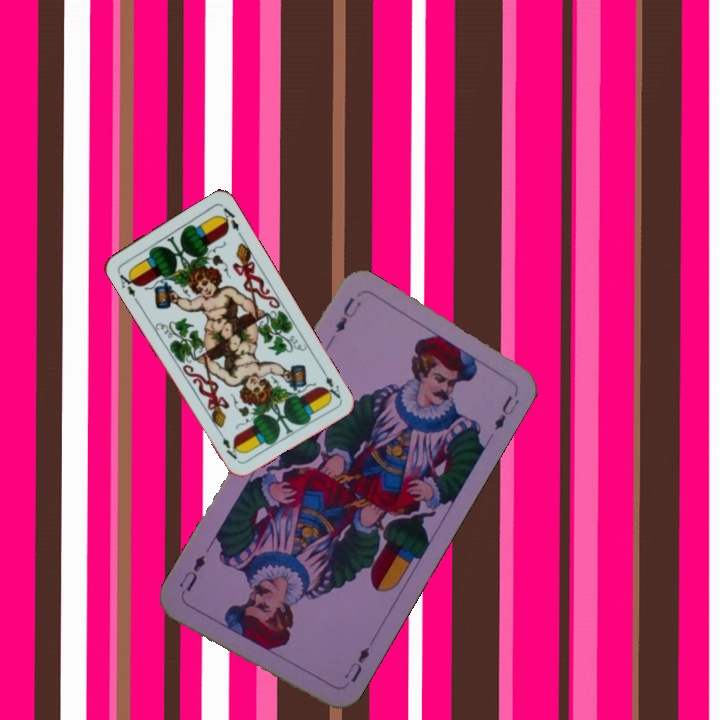EA: (114, 267, 141, 304), (317, 364, 343, 401)
EU: (331, 293, 364, 336), (340, 643, 372, 685)
